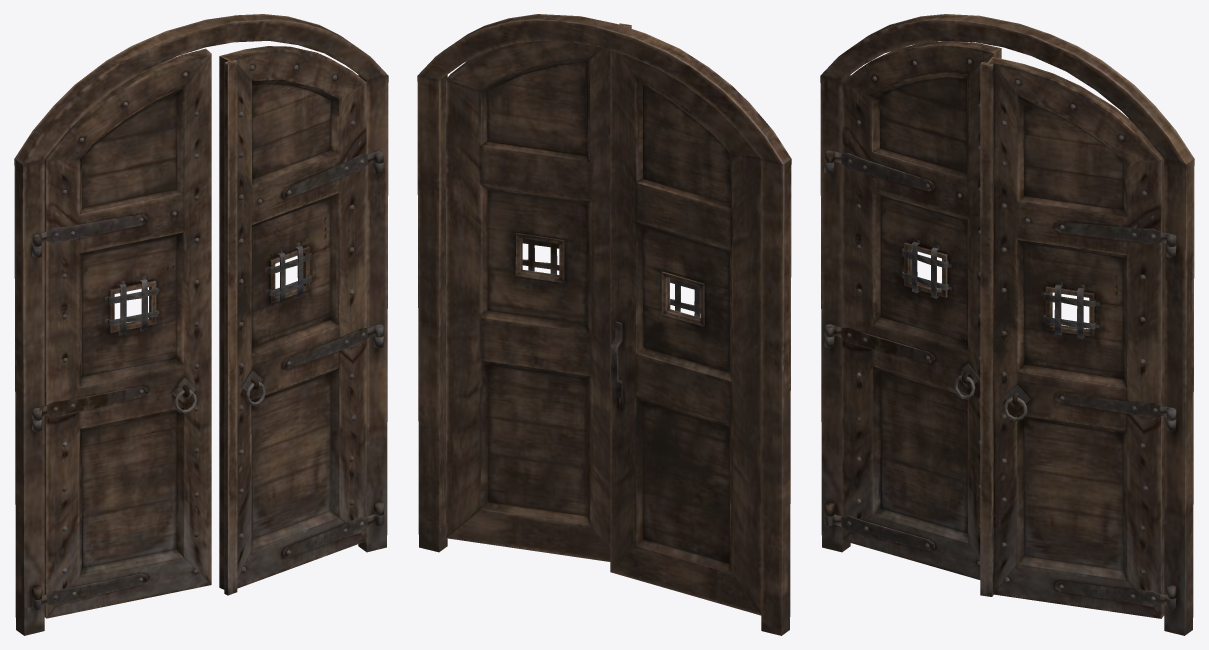
Rendered from struct_castle_door_01.glb.
The picture shows the model from 3 angles, left to right: view 1: azimuth 30°, elevation 25°; view 2: azimuth 150°, elevation 25°; view 3: azimuth 330°, elevation 25°; orthographic projection.
Parts seen in each view (by area): view 1: struct_castle_door_01; view 2: struct_castle_door_01; view 3: struct_castle_door_01.
Boxes of the visible parts, left/top/right/bottom form: struct_castle_door_01: left=14, top=14, right=388, bottom=635; struct_castle_door_01: left=417, top=14, right=791, bottom=635; struct_castle_door_01: left=820, top=14, right=1194, bottom=635.
Bounding box in the file's own units: 2.01 × 2.96 × 0.2963.
1 material, 1 textured.
